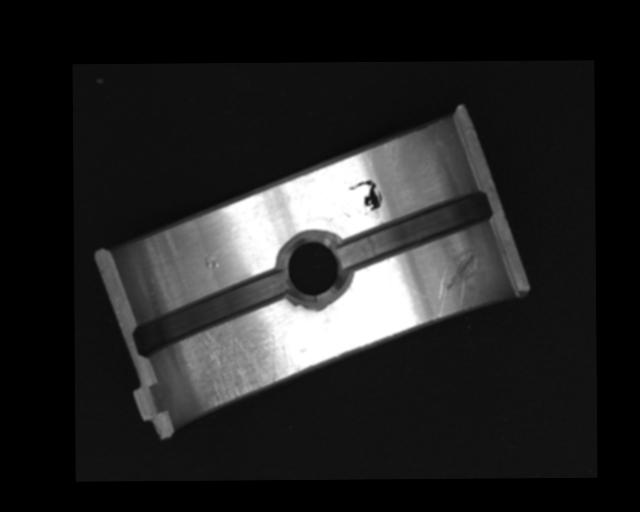blot: (348, 179, 383, 214)
bruise: (201, 252, 220, 268)
gap: (132, 268, 294, 358), (340, 189, 493, 267)
hole: (276, 234, 348, 301)
nick: (433, 244, 479, 318)
scratch: (172, 325, 300, 405)
